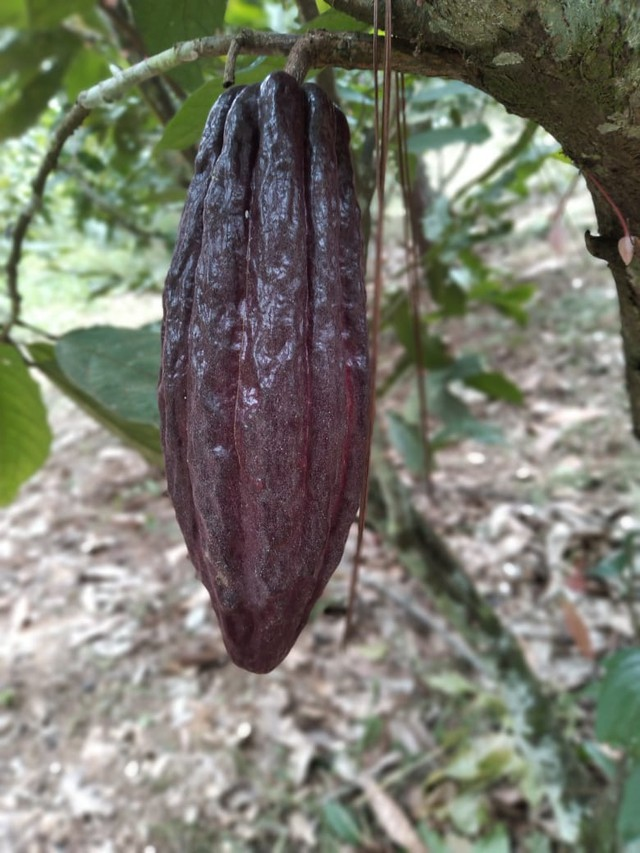Health: (149, 70, 382, 676)
